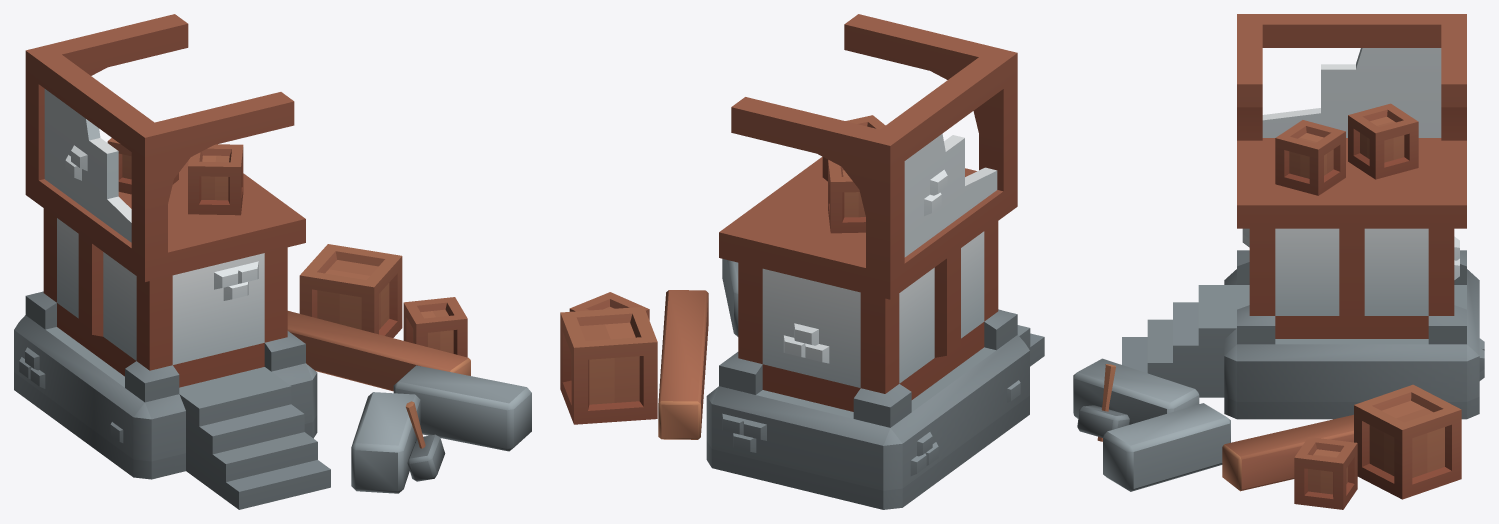
The model's file is building_stage_C.glb.
3 renders of one model, left to right at view 1: azimuth 30°, elevation 25°; view 2: azimuth 150°, elevation 25°; view 3: azimuth 270°, elevation 25°, orthographic. The views are drawn at different scales.
Visible parts, largest first — view 1: building_stage_C; view 2: building_stage_C; view 3: building_stage_C.
Part boxes in pixels (left/top/right/bottom): building_stage_C: left=14, top=14, right=531, bottom=509; building_stage_C: left=560, top=14, right=1044, bottom=509; building_stage_C: left=1073, top=14, right=1484, bottom=509.
Size of the model in its own units: 1.16 by 0.9859 by 1.13.
Materials: 1 (1 with a texture image).
